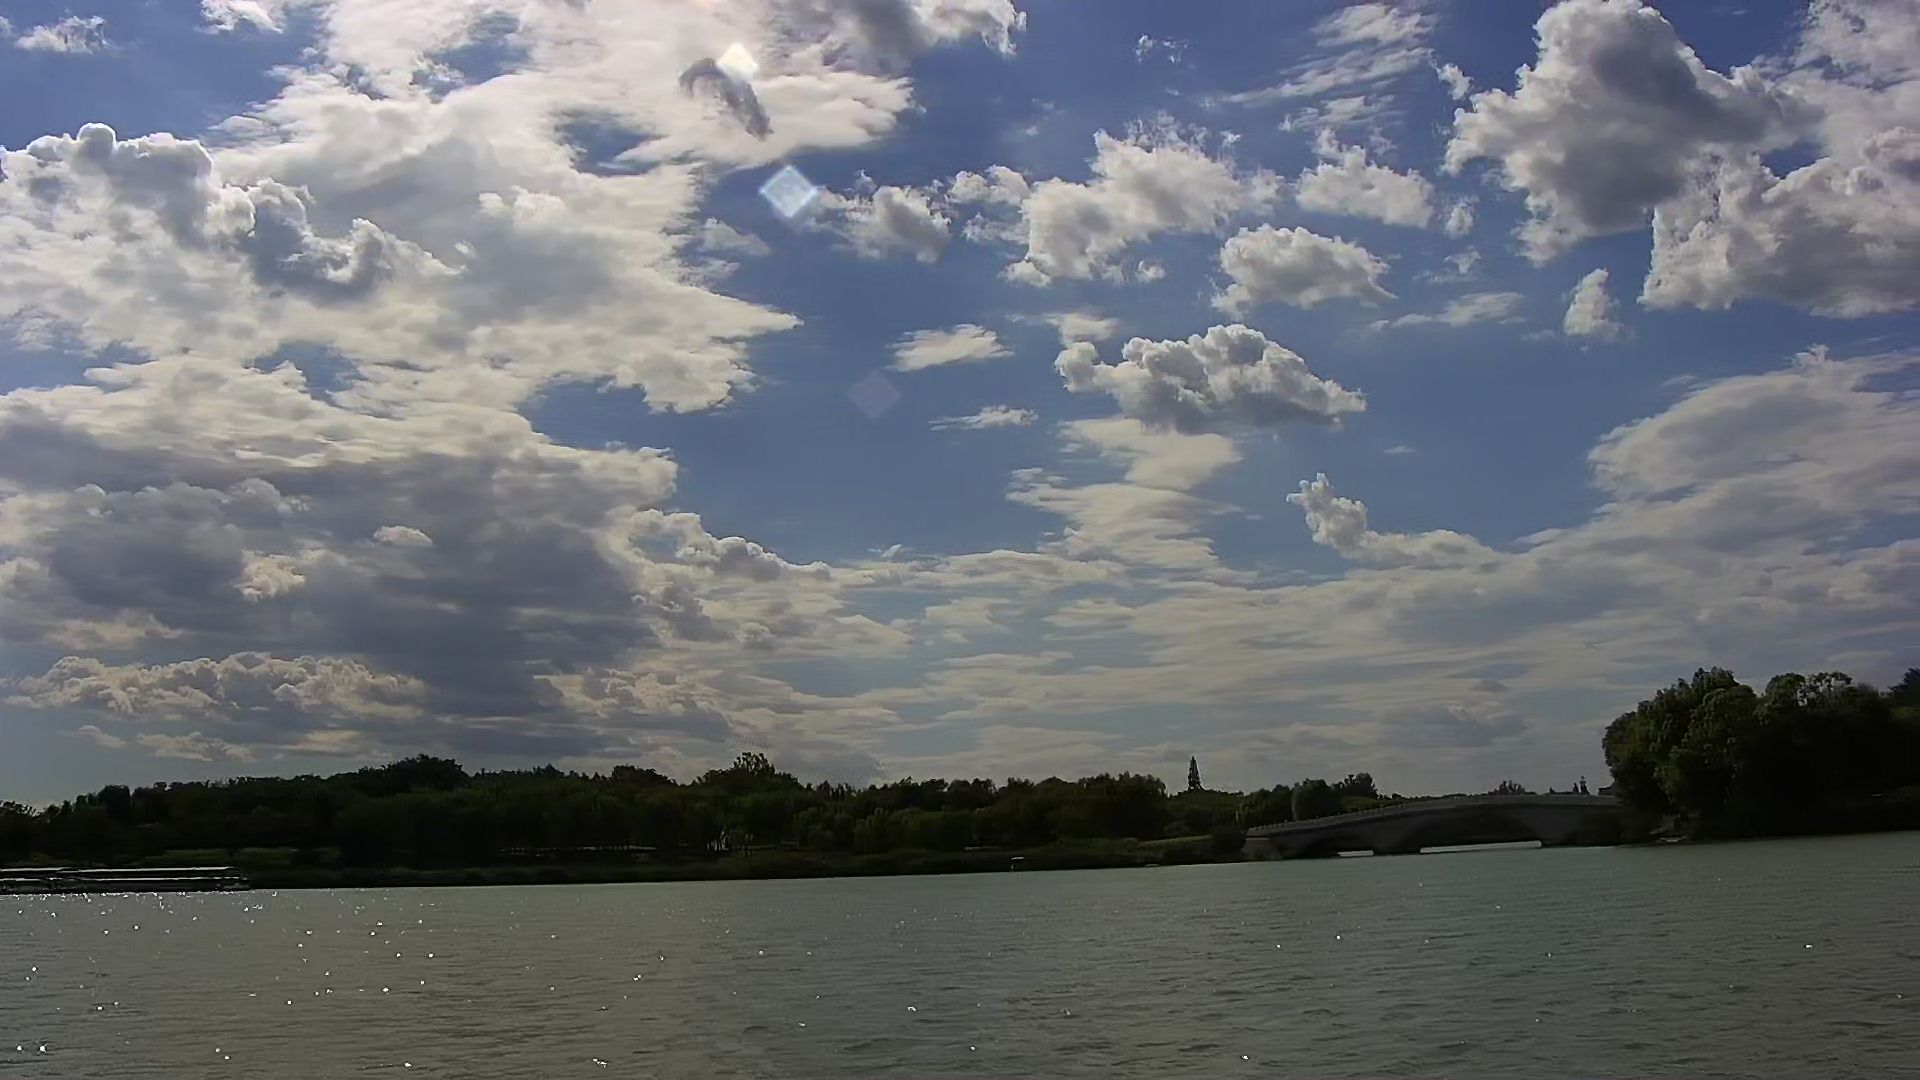bridge: (1263, 793, 1627, 855)
harbor: (4, 865, 241, 895)
